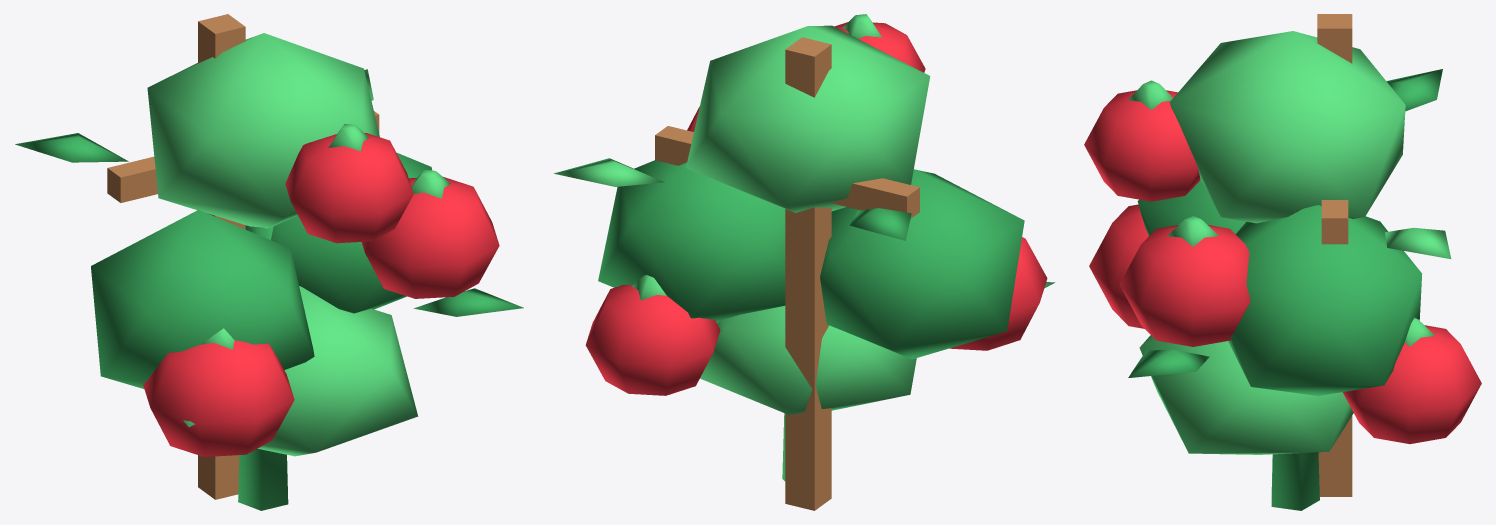
File: crop_tomato.glb
The picture shows the model from 3 angles, left to right: view 1: azimuth 30°, elevation 25°; view 2: azimuth 150°, elevation 25°; view 3: azimuth 270°, elevation 25°; orthographic projection. The views are drawn at different scales.
Visible parts, largest first — view 1: crop_tomato; view 2: crop_tomato; view 3: crop_tomato.
Part boxes in pixels (x1,y1,x2,y2): crop_tomato: (15, 14, 523, 510); crop_tomato: (554, 14, 1055, 510); crop_tomato: (1084, 14, 1481, 510).
Bounding box in the file's own units: 0.5102 × 0.6214 × 0.4774.
